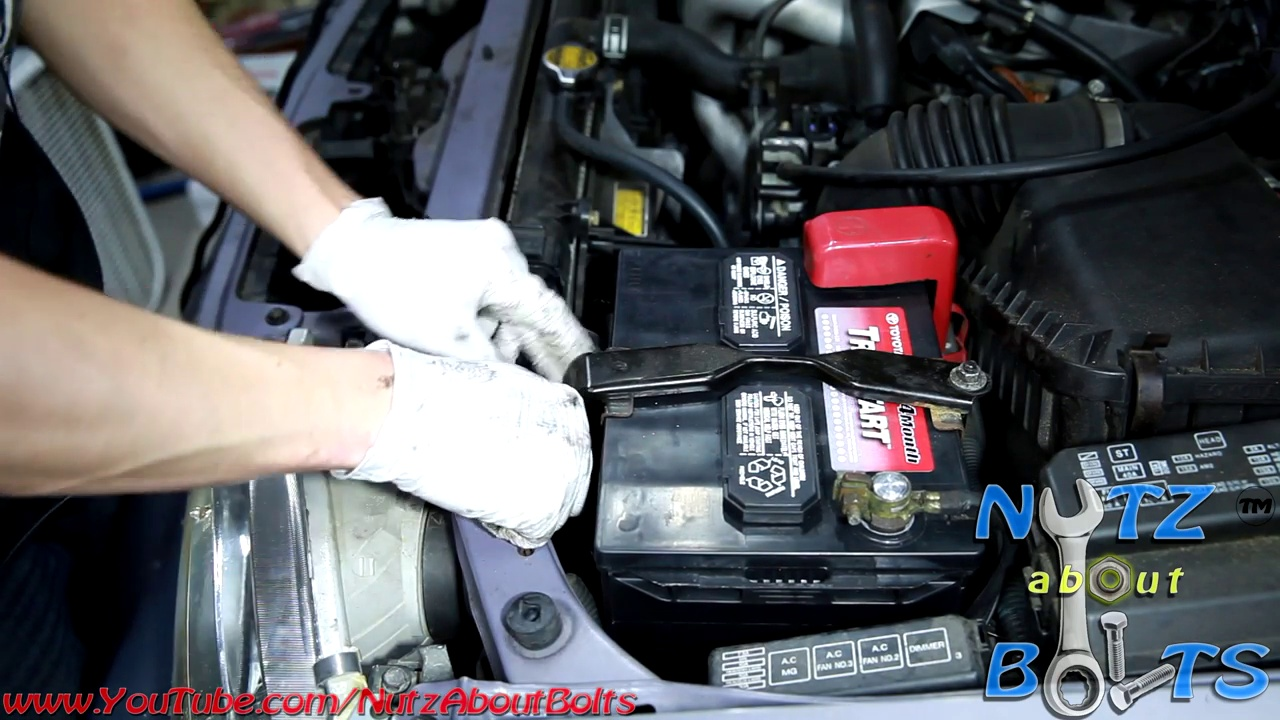battery: (615, 223, 990, 578)
neg_connected: (835, 447, 969, 542)
pos_connected: (780, 208, 971, 340)
